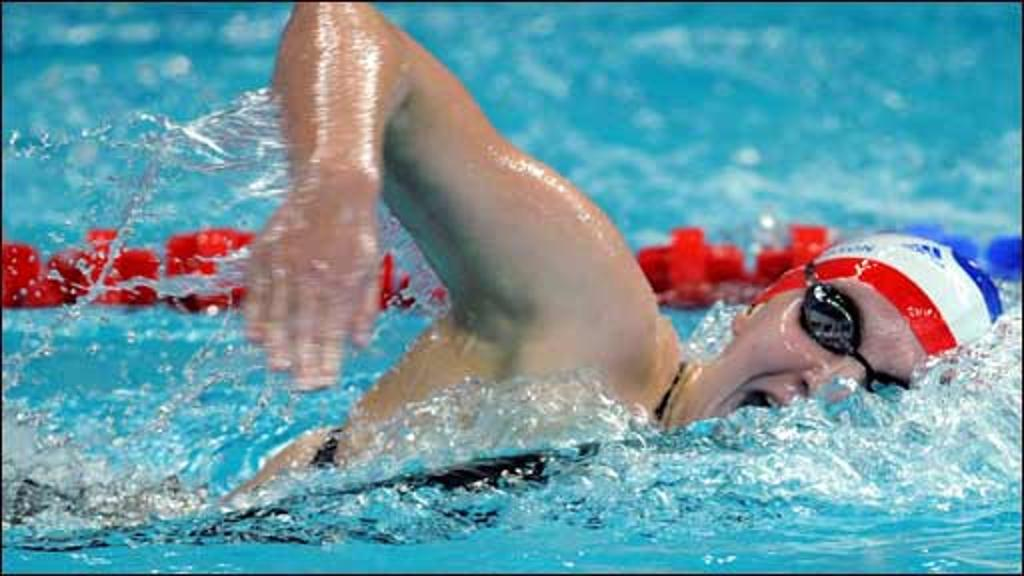face: (686, 286, 960, 476)
